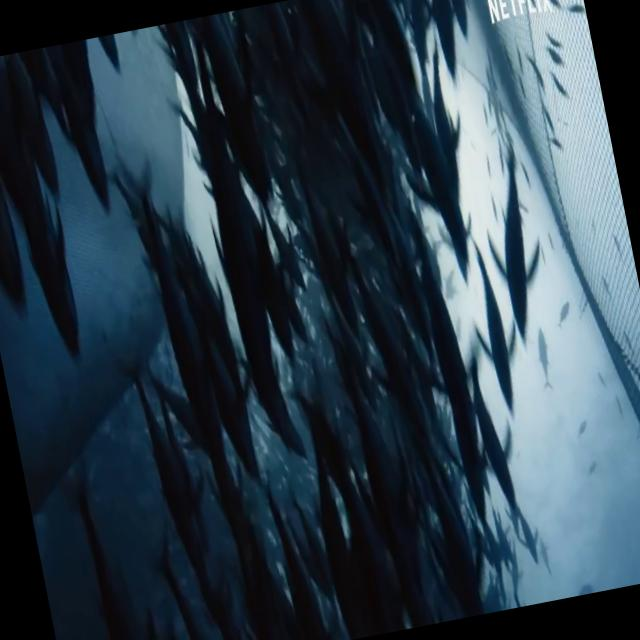fish: (475, 142, 553, 348), (461, 238, 529, 412)
